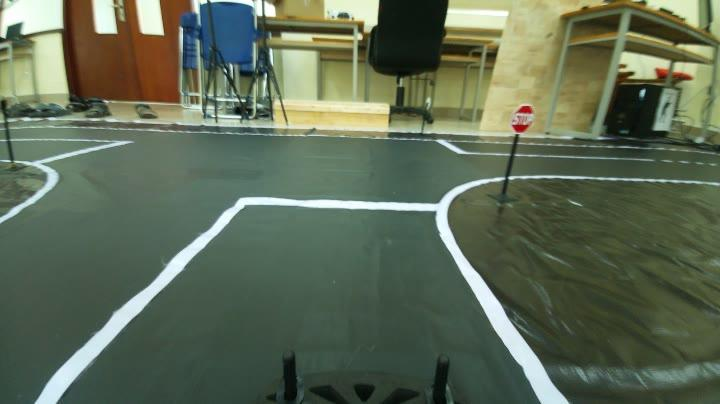stop: (510, 99, 542, 138)
